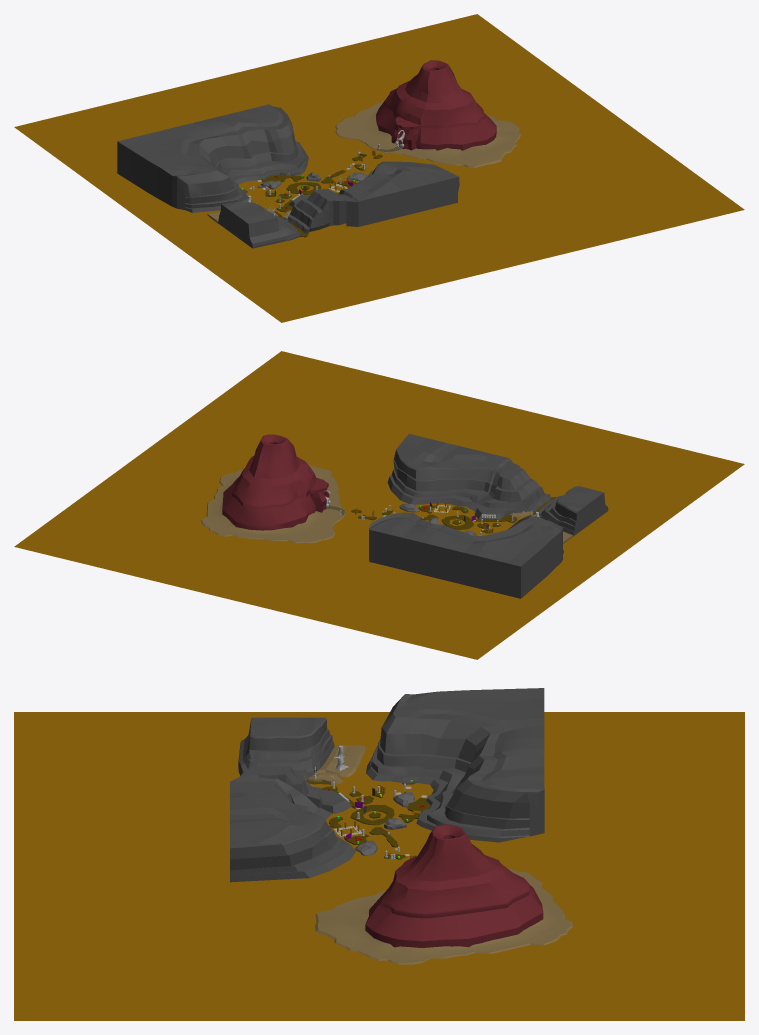
The model's file is blocking_level_2_firepath_v2.fbx.
3 views of the same model, one above another, from view 1: azimuth 30°, elevation 25°; view 2: azimuth 150°, elevation 25°; view 3: azimuth 270°, elevation 25° (orthographic). The views are drawn at different scales.
Visible parts, largest first — view 1: lava, mountain_7, volcano, mountain_5, volcano_plane, mountain_3, mountain_6; view 2: lava, mountain_7, mountain_5, volcano, volcano_plane, mountain_6, mountain_3; view 3: lava, mountain_7, volcano, mountain_5, volcano_plane, mountain_3, mountain_6, arid_plane_3.
Boxes of the visible parts, <box> form: lava: <box>14,14,744,322</box>; mountain_7: <box>117,104,308,212</box>; volcano: <box>376,60,496,150</box>; mountain_5: <box>337,161,459,226</box>; volcano_plane: <box>335,101,521,167</box>; mountain_3: <box>218,202,300,248</box>; mountain_6: <box>287,188,346,233</box>; lava: <box>14,351,744,659</box>; mountain_7: <box>369,512,563,598</box>; mountain_5: <box>387,434,513,511</box>; volcano: <box>222,434,316,530</box>; volcano_plane: <box>201,465,345,543</box>; mountain_6: <box>474,463,550,519</box>; mountain_3: <box>535,486,608,536</box>; lava: <box>14,712,744,1020</box>; mountain_7: <box>366,688,544,842</box>; volcano: <box>365,824,543,948</box>; mountain_5: <box>230,776,355,882</box>; volcano_plane: <box>315,868,572,964</box>; mountain_3: <box>238,717,334,778</box>; mountain_6: <box>241,766,351,813</box>; arid_plane_3: <box>316,745,365,777</box>.
Size of the model in its own units: 329 by 48.36 by 329.
